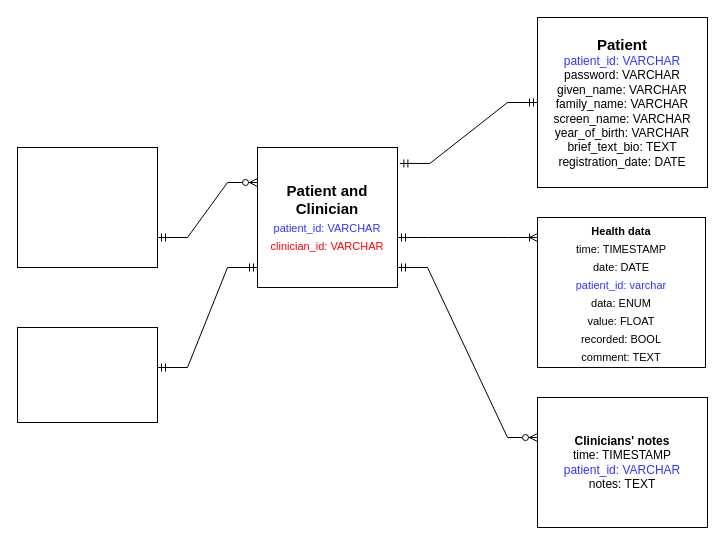
Some shapes in this 725 by 545 pixel diagram are drawn without their labels. The centre of each missing label's shape, as x and y in pixels:
"Clinician clinician_id: VARCHAR password: VARCHAR" belongs at pixel 87 207.
"Support messages message: TEXT patient_id: VARCHAR" belongs at pixel 87 374.
